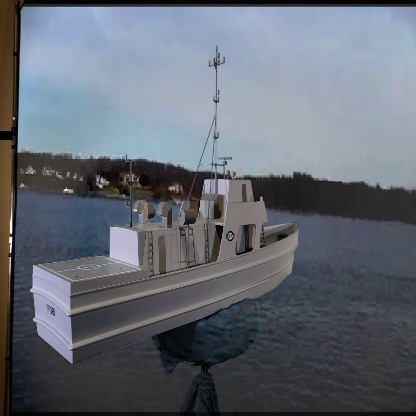YP689: (32, 45, 301, 363)
